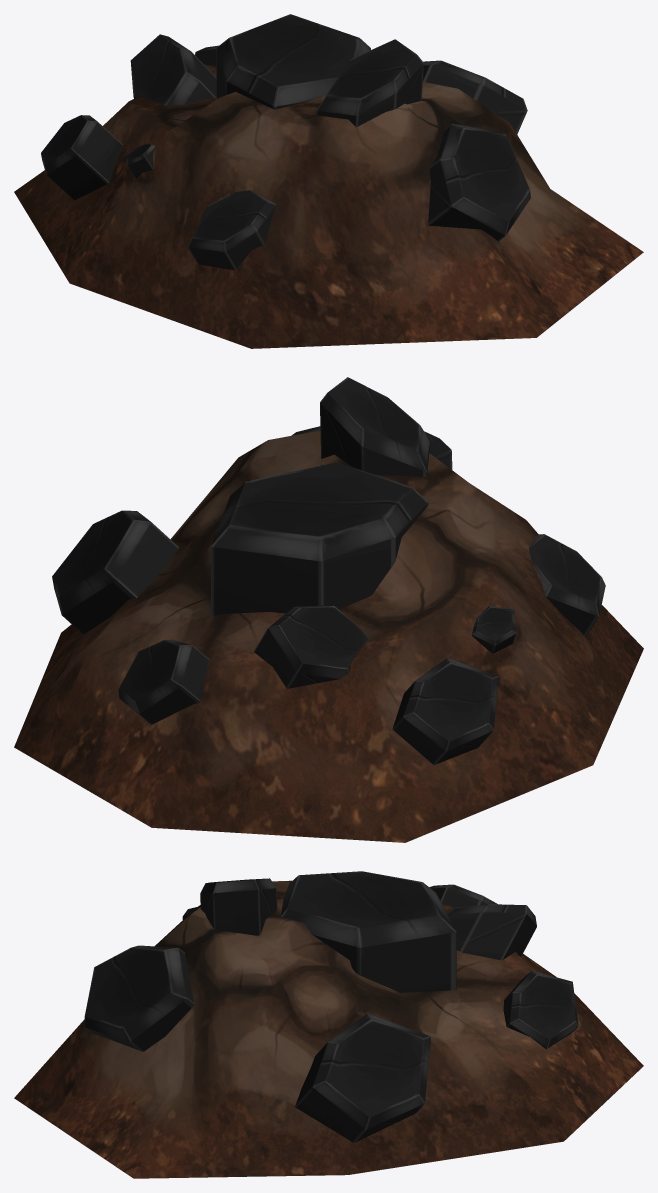
File: Ore.FBX
3 renders of one model, top to bottom at view 1: azimuth 30°, elevation 25°; view 2: azimuth 150°, elevation 25°; view 3: azimuth 270°, elevation 25°, orthographic. The views are drawn at different scales.
Parts seen in each view (by area): view 1: Box001; view 2: Box001; view 3: Box001.
Part boxes in pixels (<box>): Box001: <box>14,14,643,348</box>; Box001: <box>14,377,643,842</box>; Box001: <box>14,871,643,1178</box>.
Bounding box in the file's own units: 2.68 × 1.18 × 3.22.
